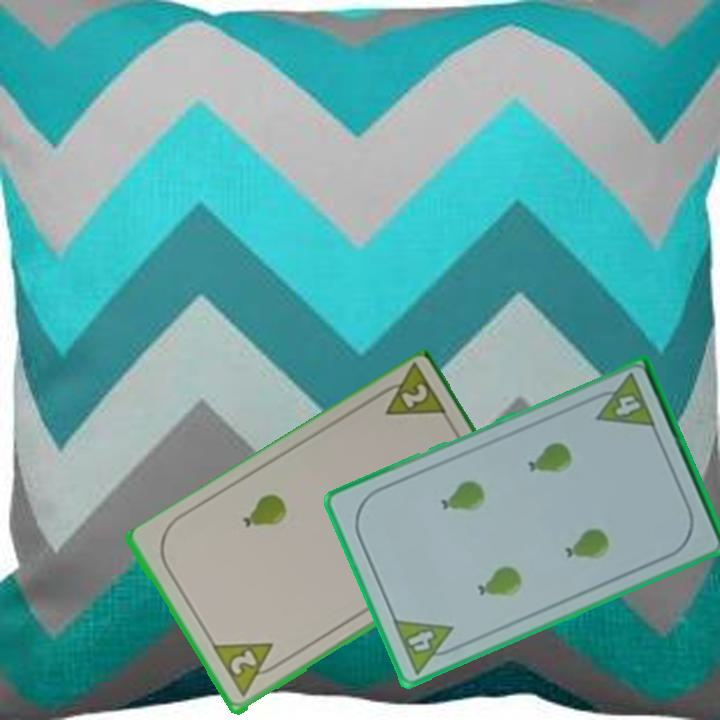2p: (209, 638, 287, 701), (369, 363, 452, 422)
4p: (389, 615, 464, 677), (586, 370, 658, 432)
